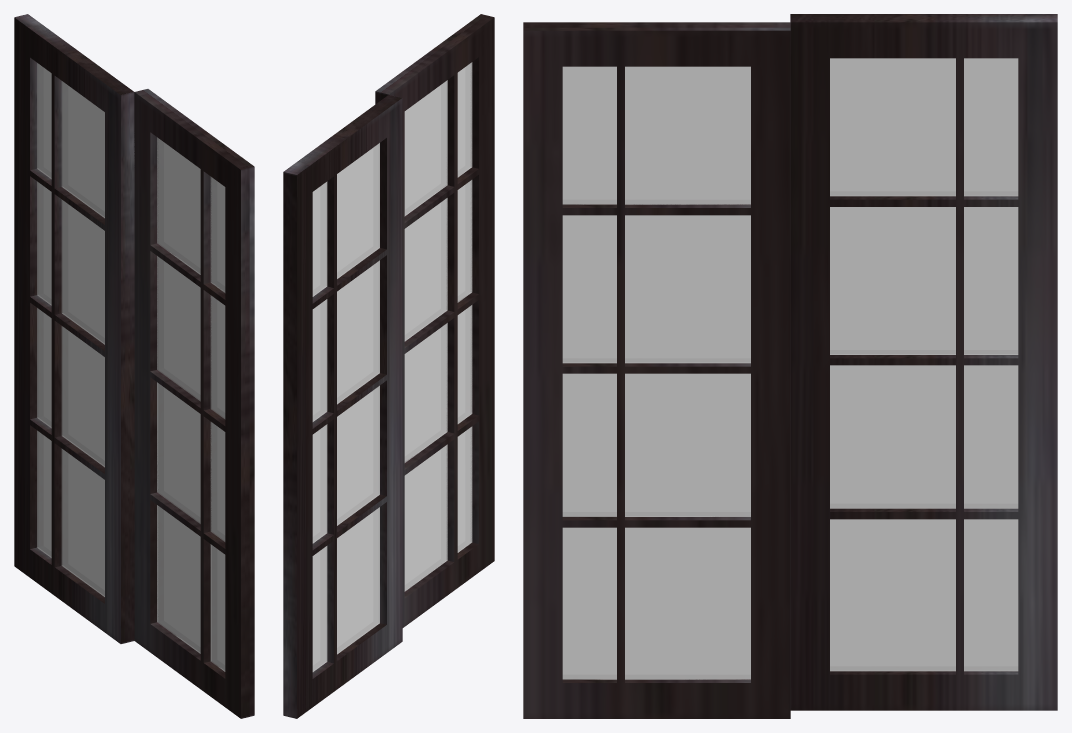
3 views of the same model, side by side, from view 1: azimuth 30°, elevation 25°; view 2: azimuth 150°, elevation 25°; view 3: azimuth 270°, elevation 25° (orthographic). The views are drawn at different scales.
Parts seen in each view (by area): view 1: Rectangle57, Rectangle55, Rectangle28, Rectangle56; view 2: Rectangle57, Rectangle55, Rectangle28, Rectangle56; view 3: Rectangle28, Rectangle56, Rectangle57, Rectangle55.
Boxes of the visible parts, left/top/right/bottom form: Rectangle57: left=14, top=14, right=134, bottom=643; Rectangle55: left=134, top=89, right=254, bottom=718; Rectangle28: left=157, top=137, right=225, bottom=671; Rectangle56: left=37, top=63, right=104, bottom=596; Rectangle57: left=283, top=94, right=402, bottom=718; Rectangle55: left=375, top=14, right=494, bottom=627; Rectangle28: left=404, top=62, right=472, bottom=591; Rectangle56: left=312, top=143, right=379, bottom=671; Rectangle28: left=562, top=66, right=750, bottom=679; Rectangle56: left=830, top=58, right=1018, bottom=671; Rectangle57: left=790, top=14, right=1057, bottom=710; Rectangle55: left=523, top=22, right=790, bottom=718.
Bounding box in the file's own units: 100 × 1920 × 1351.
